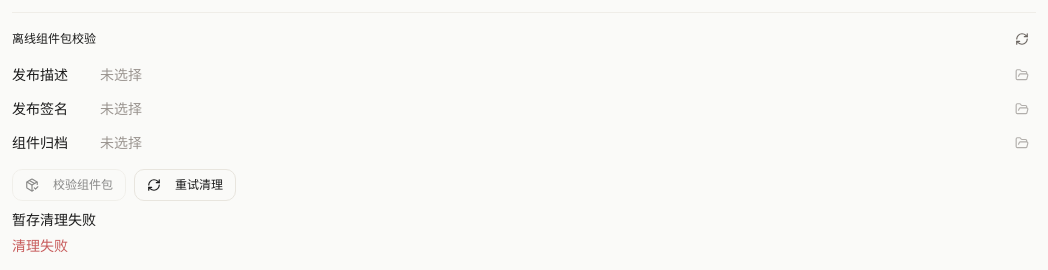
Test: OCR package preparation › retries retained cleanup explicitly and blocks a new preparation
Expected: the button "校验组件包" is disabled, [12,169,126,201]
Click the button "重试清理" at (185, 185), box [134,169,236,201]
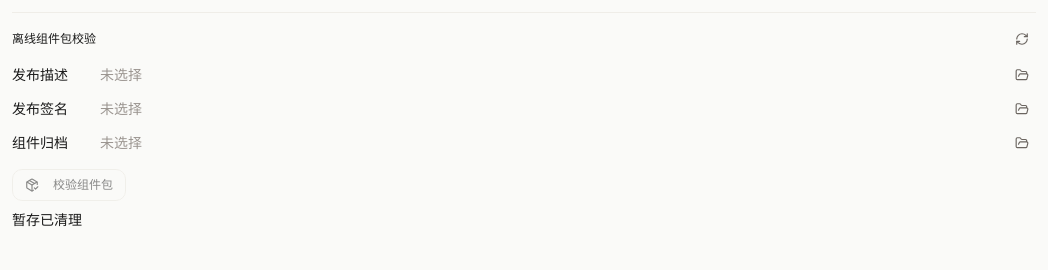
Expected: the text "暂存已清理" is shown, [12,209,82,231]
